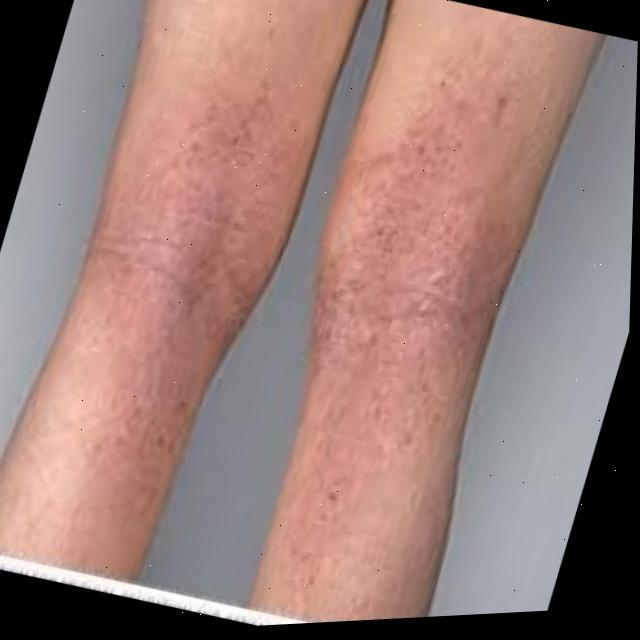Eczema: (239, 31, 566, 586), (10, 23, 315, 566)
